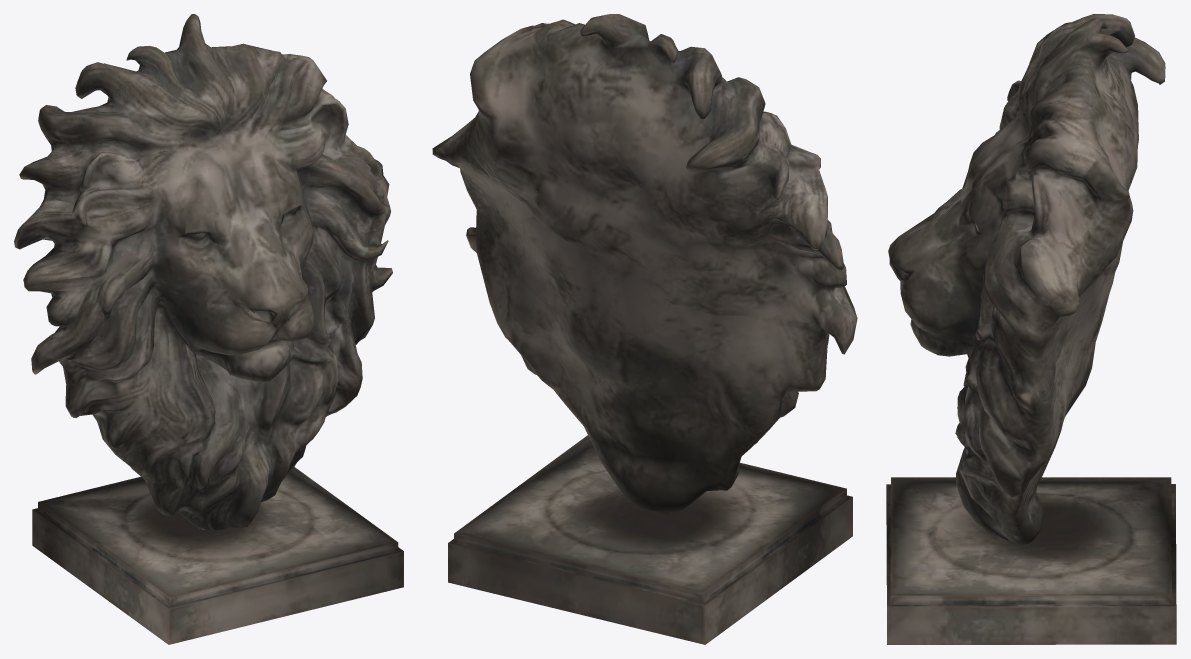
File: decor_lion-head_t1.glb
3 views of the same model, side by side, from view 1: azimuth 30°, elevation 25°; view 2: azimuth 150°, elevation 25°; view 3: azimuth 270°, elevation 25° (orthographic). The views are drawn at different scales.
Visible parts, largest first — view 1: lion_head; view 2: lion_head; view 3: lion_head.
Boxes of the visible parts, x1=… form: lion_head: x1=14, y1=14, x2=403, y2=644; lion_head: x1=432, y1=14, x2=857, y2=644; lion_head: x1=886, y1=14, x2=1176, y2=644.
Bounding box in the file's own units: 0.367 × 0.4986 × 0.2367.
1 material, 1 textured.
